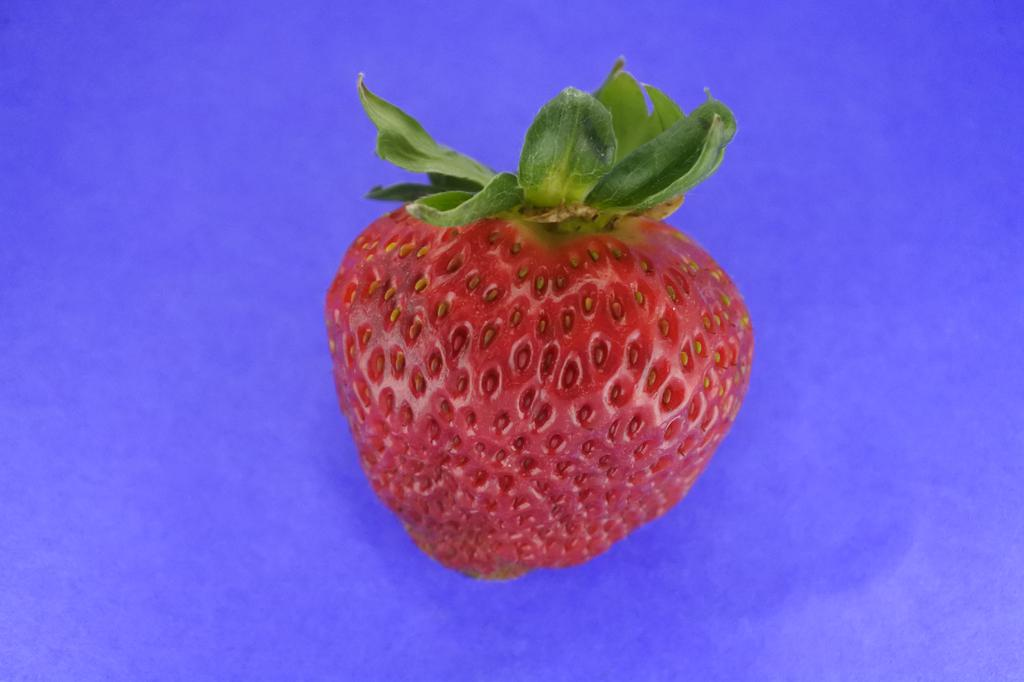red strawberry: (328, 73, 757, 581)
